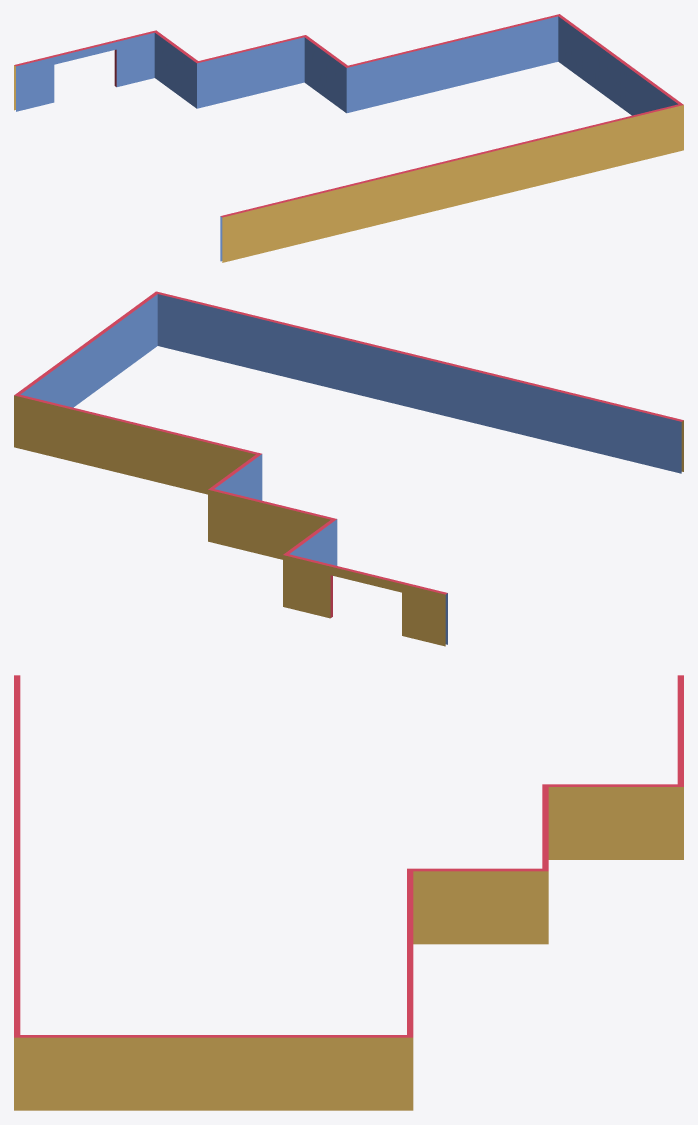
The model's file is ParedesPablo29Amarillas.fbx.
The picture shows the model from 3 angles, top to bottom: view 1: azimuth 30°, elevation 25°; view 2: azimuth 150°, elevation 25°; view 3: azimuth 270°, elevation 25°; orthographic projection. The views are drawn at different scales.
Visible parts, largest first — view 1: Cube1.001; view 2: Cube1.001; view 3: Cube1.001.
Boxes of the visible parts, bbox=[...] form: Cube1.001: bbox=[14, 14, 683, 262]; Cube1.001: bbox=[14, 291, 683, 646]; Cube1.001: bbox=[14, 675, 683, 1110].
Size of the model in its own units: 1330 by 125 by 1040.
